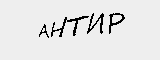А: (37, 22, 51, 39)
И: (87, 12, 105, 37)
Н: (48, 16, 66, 39)
Р: (108, 10, 125, 35)
Т: (65, 10, 86, 37)
